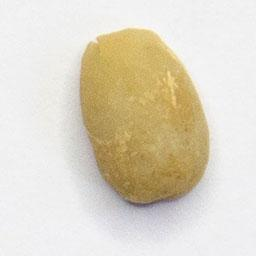defect: (77, 24, 213, 211)
